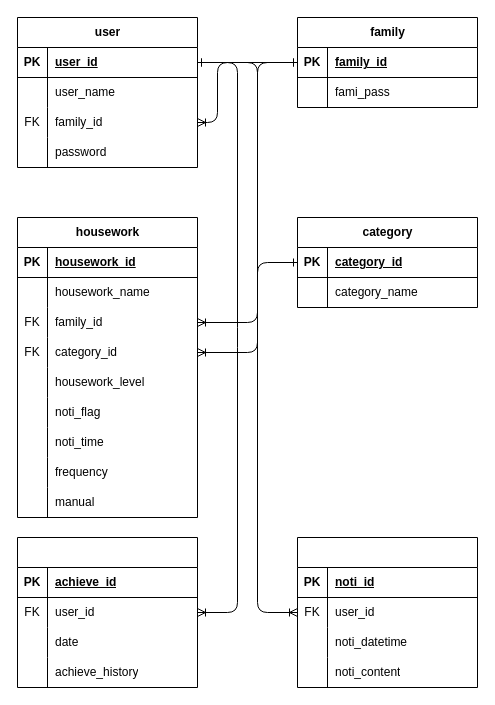
Some shapes in this 495 by 705 pixel diagram are drawn without their labels. Each missing label, with the box of its shape:
achievement: (16, 536, 198, 688)
notification: (296, 536, 478, 688)
